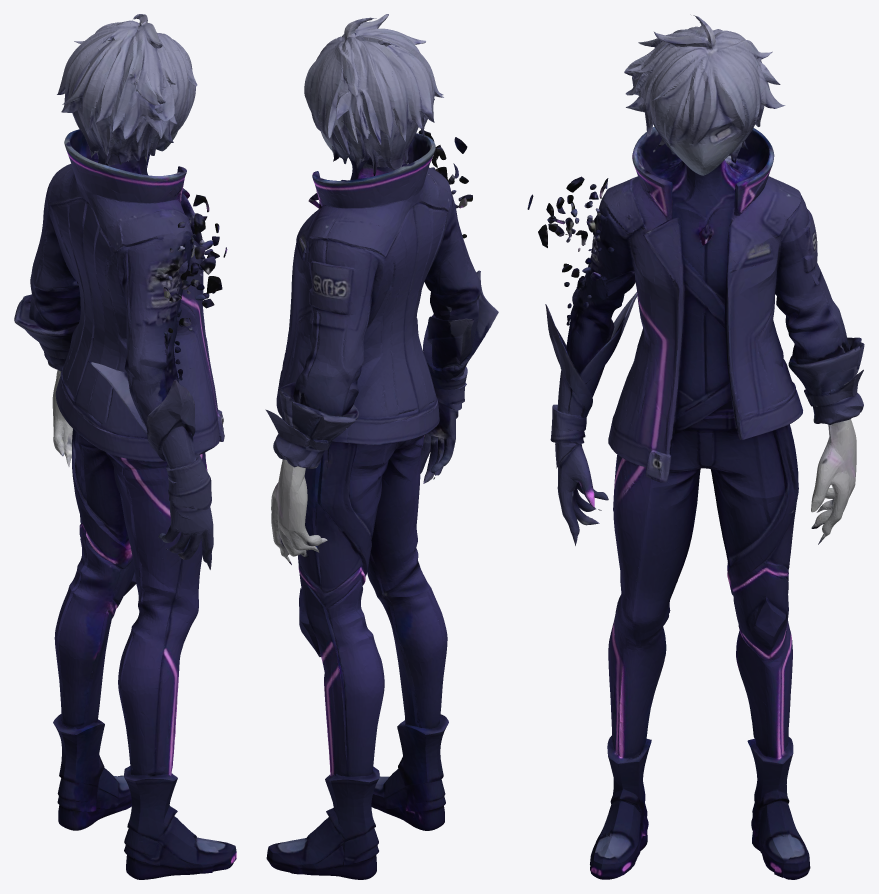
File: animiejumpdown-optimized.glb
The picture shows the model from 3 angles, left to right: view 1: azimuth 30°, elevation 25°; view 2: azimuth 150°, elevation 25°; view 3: azimuth 270°, elevation 25°; orthographic projection.
Parts seen in each view (by area): view 1: tripo_node_4a28e561-9311-4ebf-8f64-235de44a0cb2; view 2: tripo_node_4a28e561-9311-4ebf-8f64-235de44a0cb2; view 3: tripo_node_4a28e561-9311-4ebf-8f64-235de44a0cb2.
Part boxes in pixels (left/top/right/bottom): tripo_node_4a28e561-9311-4ebf-8f64-235de44a0cb2: left=14, top=14, right=236, bottom=879; tripo_node_4a28e561-9311-4ebf-8f64-235de44a0cb2: left=265, top=14, right=498, bottom=879; tripo_node_4a28e561-9311-4ebf-8f64-235de44a0cb2: left=527, top=15, right=864, bottom=879.
Size of the model in its own units: 0.1858 by 1 by 0.3635.
1 material, 1 textured.
